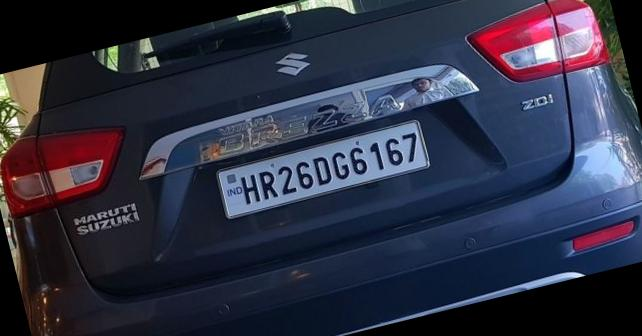plate: (215, 114, 437, 220)
